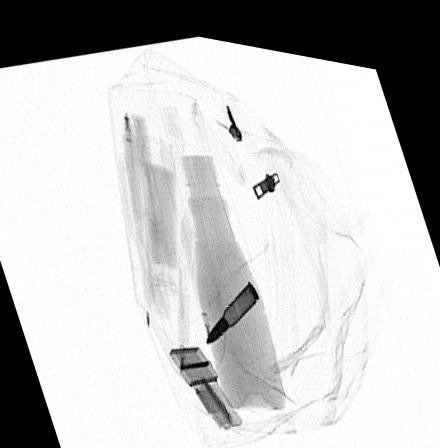Bullet: (204, 269, 259, 337)
